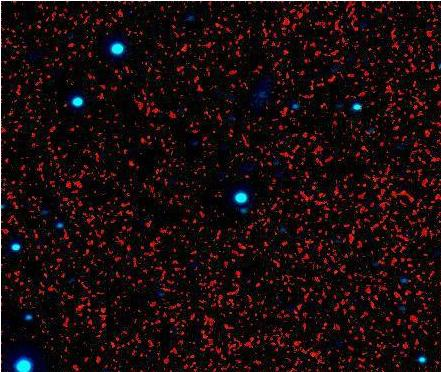star: (345, 312, 375, 342)
